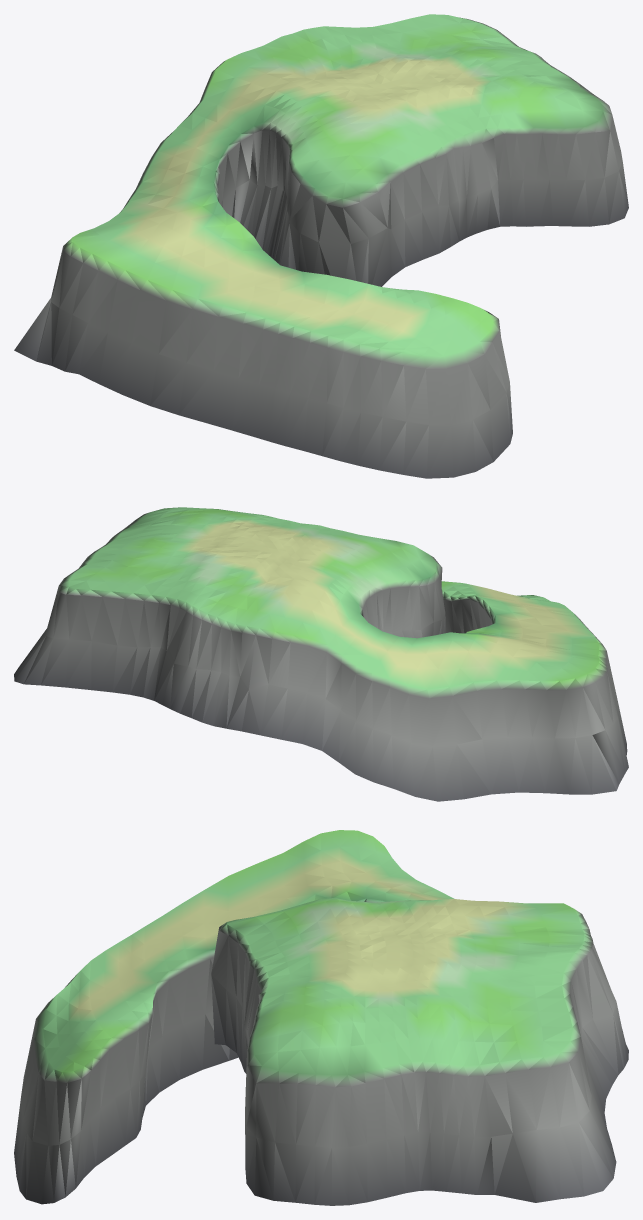
File: Terrain.fbx
3 renders of one model, top to bottom at view 1: azimuth 30°, elevation 25°; view 2: azimuth 150°, elevation 25°; view 3: azimuth 270°, elevation 25°, orthographic. The views are drawn at different scales.
Visible parts, largest first — view 1: Plane; view 2: Plane; view 3: Plane.
Part boxes in pixels (<box>): Plane: <box>14,14,628,478</box>; Plane: <box>14,507,628,801</box>; Plane: <box>14,830,628,1205</box>.
Size of the model in its own units: 5185 by 2155 by 4107.
